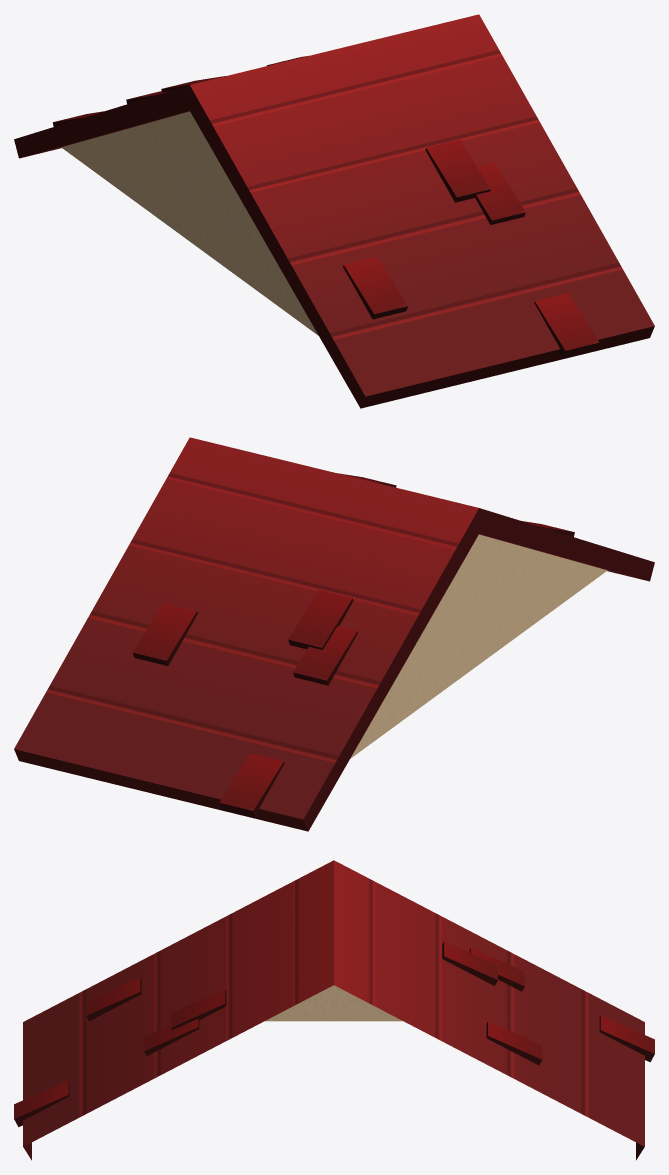
File: MESH_Grand_Toit_01.fbx
3 renders of one model, top to bottom at view 1: azimuth 30°, elevation 25°; view 2: azimuth 150°, elevation 25°; view 3: azimuth 270°, elevation 25°, orthographic. The views are drawn at different scales.
Parts seen in each view (by area): view 1: MESH_Grand_Toit_01; view 2: MESH_Grand_Toit_01; view 3: MESH_Grand_Toit_01.
Part boxes in pixels (x1=…): MESH_Grand_Toit_01: x1=14, y1=14, x2=654, y2=408; MESH_Grand_Toit_01: x1=14, y1=437, x2=654, y2=831; MESH_Grand_Toit_01: x1=14, y1=860, x2=654, y2=1160.
Size of the model in its own units: 3.19 by 2.09 by 6.93.
